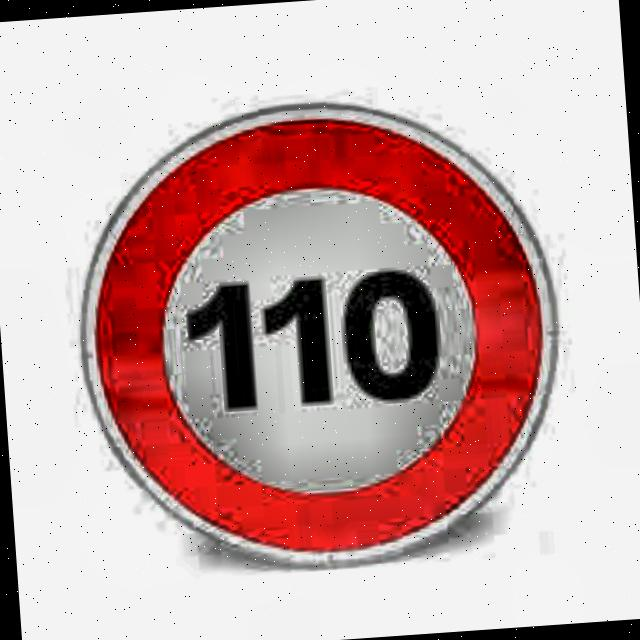speed_110: (67, 84, 575, 586)
